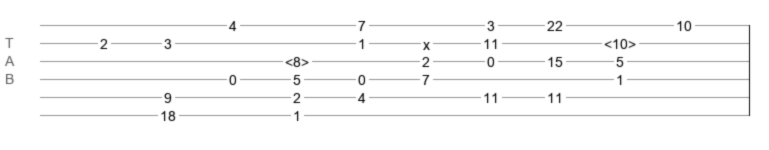0: (229, 72, 237, 82), (358, 72, 366, 82), (487, 54, 495, 64)
1: (293, 108, 301, 118), (358, 36, 366, 46), (616, 72, 624, 82)
10: (676, 18, 692, 28)
11: (483, 36, 499, 46), (483, 90, 499, 100), (547, 90, 563, 100)
15: (547, 54, 563, 64)
18: (160, 108, 176, 118)
2: (100, 36, 108, 46), (293, 90, 301, 100), (422, 54, 430, 64)
22: (547, 18, 563, 28)
3: (164, 36, 172, 46), (487, 18, 495, 28)
4: (229, 18, 237, 28), (358, 90, 366, 100)
5: (293, 72, 301, 82), (616, 54, 624, 64)
7: (358, 18, 366, 28), (422, 72, 430, 82)
9: (164, 90, 172, 100)
harmonic: (604, 36, 636, 46), (285, 54, 309, 64)
x: (423, 37, 430, 45)
